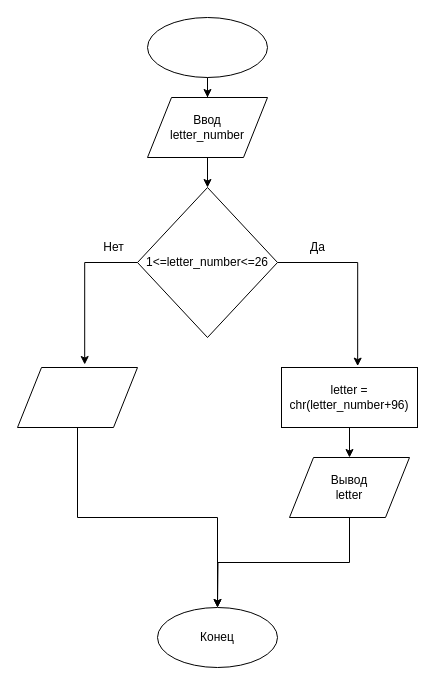
The diagram is 435 pixels wide and 685 high, and some of its shapes have lost their labels. The centre of each missing label's shape, as x and y in pixels:
Вывод "Неправильный ввод": (77,397)
Начало: (207,47)
